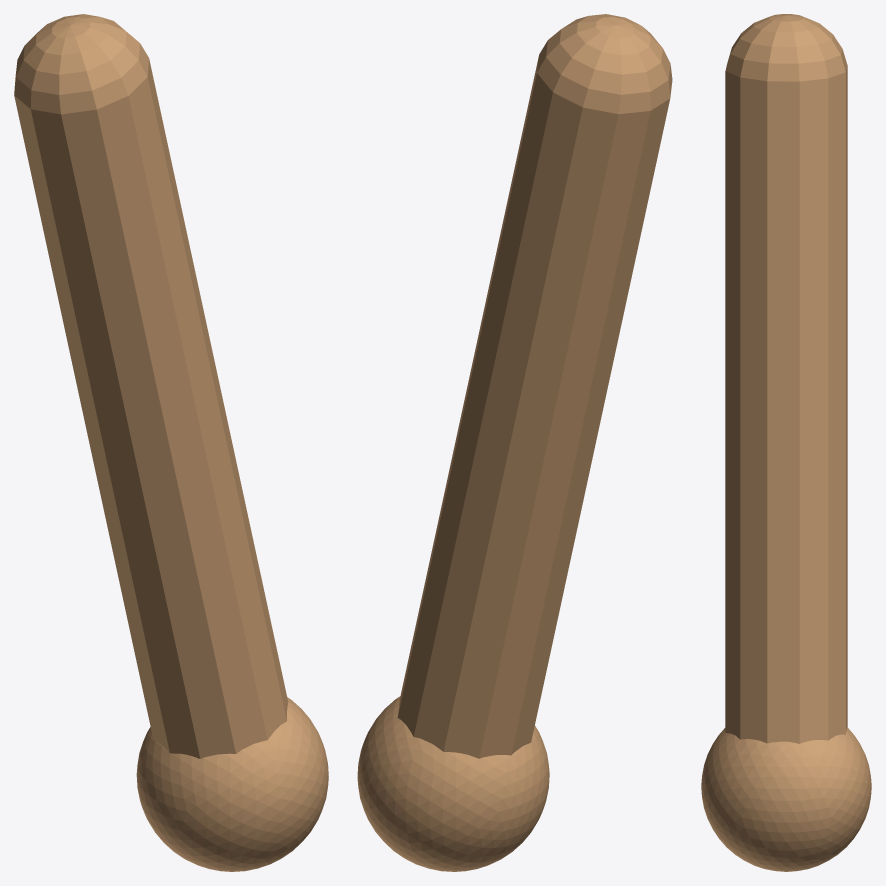
The picture shows the model from 3 angles, left to right: view 1: azimuth 30°, elevation 25°; view 2: azimuth 150°, elevation 25°; view 3: azimuth 270°, elevation 25°; orthographic projection. The views are drawn at different scales.
Visible parts, largest first — view 1: world; view 2: world; view 3: world.
Boxes of the visible parts, x1=… form: world: x1=14, y1=14, x2=328, y2=871; world: x1=357, y1=14, x2=672, y2=871; world: x1=701, y1=14, x2=871, y2=871.
Size of the model in its own units: 0.1617 by 0.4639 by 0.092.
